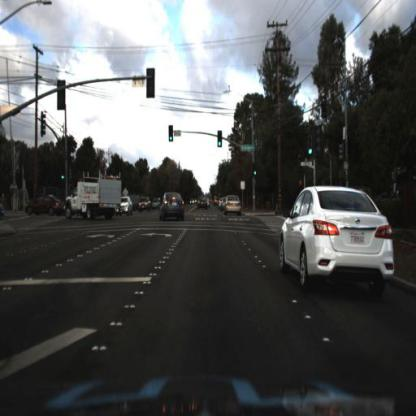car: (276, 181, 398, 299), (23, 195, 63, 221), (154, 191, 187, 222), (116, 192, 138, 216), (222, 193, 245, 215), (117, 194, 135, 219), (136, 193, 154, 217), (138, 196, 153, 217), (197, 196, 211, 212)
trafficLight-Green: (216, 134, 225, 154), (307, 136, 314, 159), (252, 163, 259, 182), (167, 130, 175, 145), (217, 131, 223, 150), (307, 146, 314, 158), (252, 168, 258, 180)
truck: (64, 170, 123, 223), (62, 170, 124, 219)
